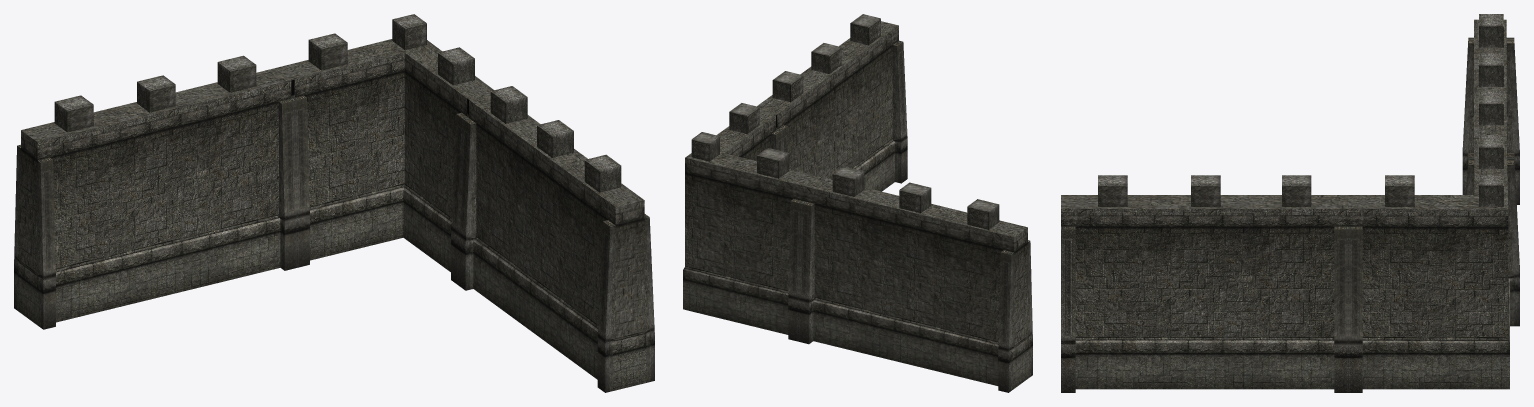
Rendered from ep-bigdam-05.glb.
3 renders of one model, left to right at view 1: azimuth 30°, elevation 25°; view 2: azimuth 150°, elevation 25°; view 3: azimuth 270°, elevation 25°, orthographic. The views are drawn at different scales.
Parts seen in each view (by area): view 1: ep-bigdam-05; view 2: ep-bigdam-05; view 3: ep-bigdam-05.
Part boxes in pixels (left/top/right/bottom): ep-bigdam-05: left=14, top=14, right=654, bottom=392; ep-bigdam-05: left=683, top=14, right=1032, bottom=392; ep-bigdam-05: left=1061, top=14, right=1519, bottom=392.
Size of the model in its own units: 16 by 7.71 by 16.
Materials: 1 (1 with a texture image).
